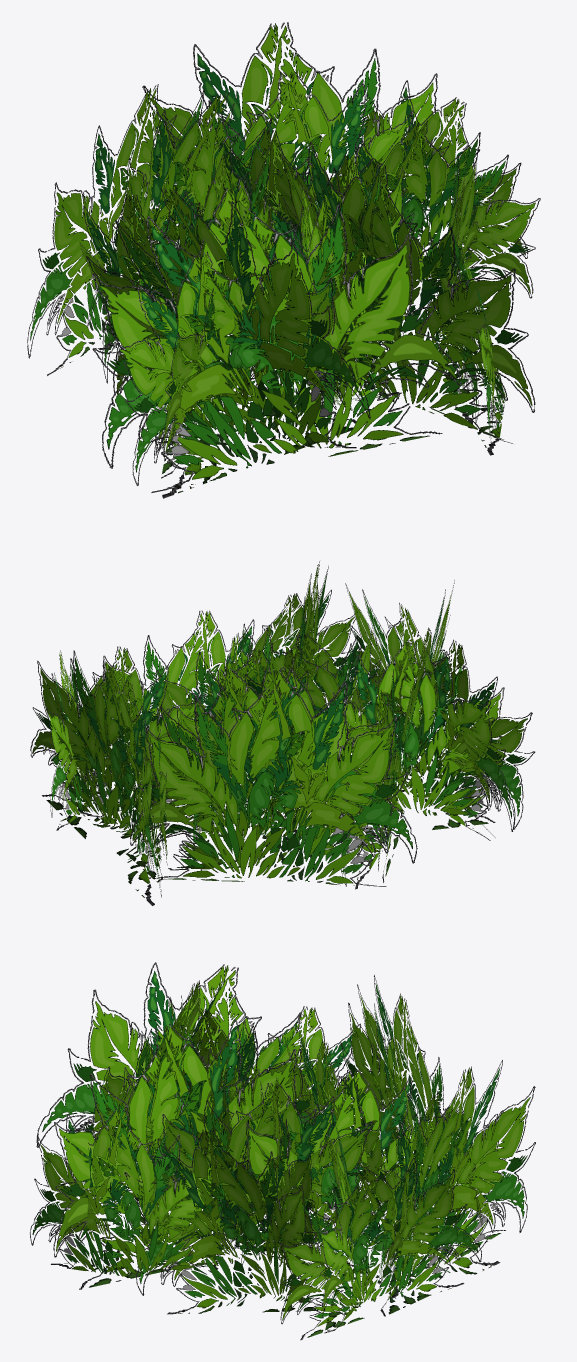
Rendered from StylizedBush.fbx.
3 renders of one model, top to bottom at view 1: azimuth 30°, elevation 25°; view 2: azimuth 150°, elevation 25°; view 3: azimuth 270°, elevation 25°, orthographic. The views are drawn at different scales.
Visible parts, largest first — view 1: Material; view 2: Material; view 3: Material.
Part boxes in pixels (x1=…): Material: x1=27, y1=22, x2=540, y2=498; Material: x1=30, y1=561, x2=535, y2=905; Material: x1=30, y1=962, x2=535, y2=1340.
Size of the model in its own units: 251 by 144 by 255.
